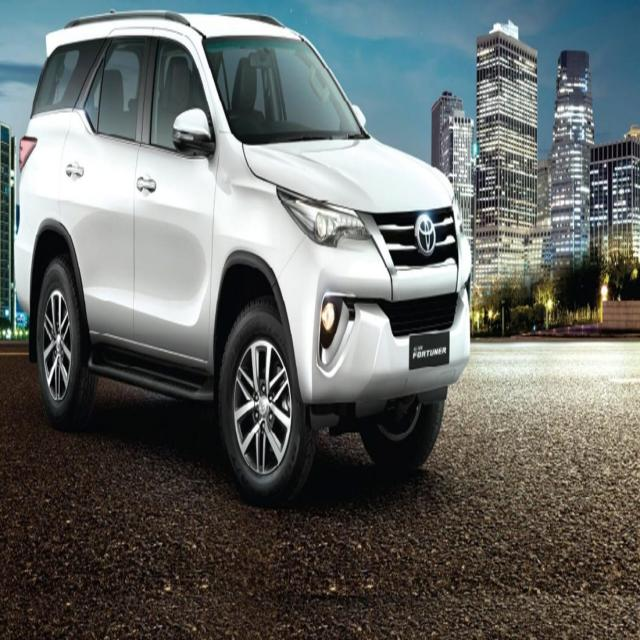light_vehicle: (12, 11, 472, 507)
